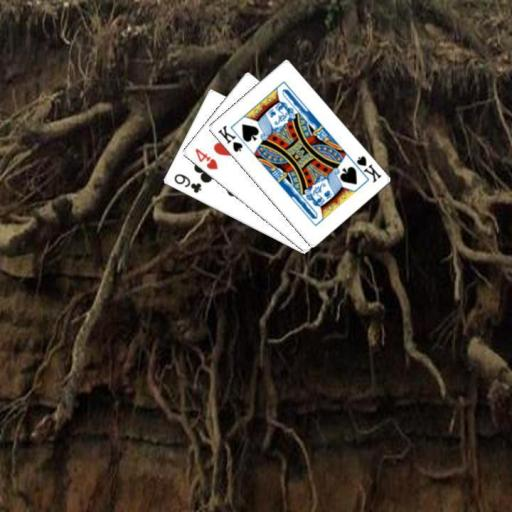card-corner: (347, 152, 383, 184), (214, 122, 244, 154), (170, 171, 202, 195), (191, 145, 219, 171)
